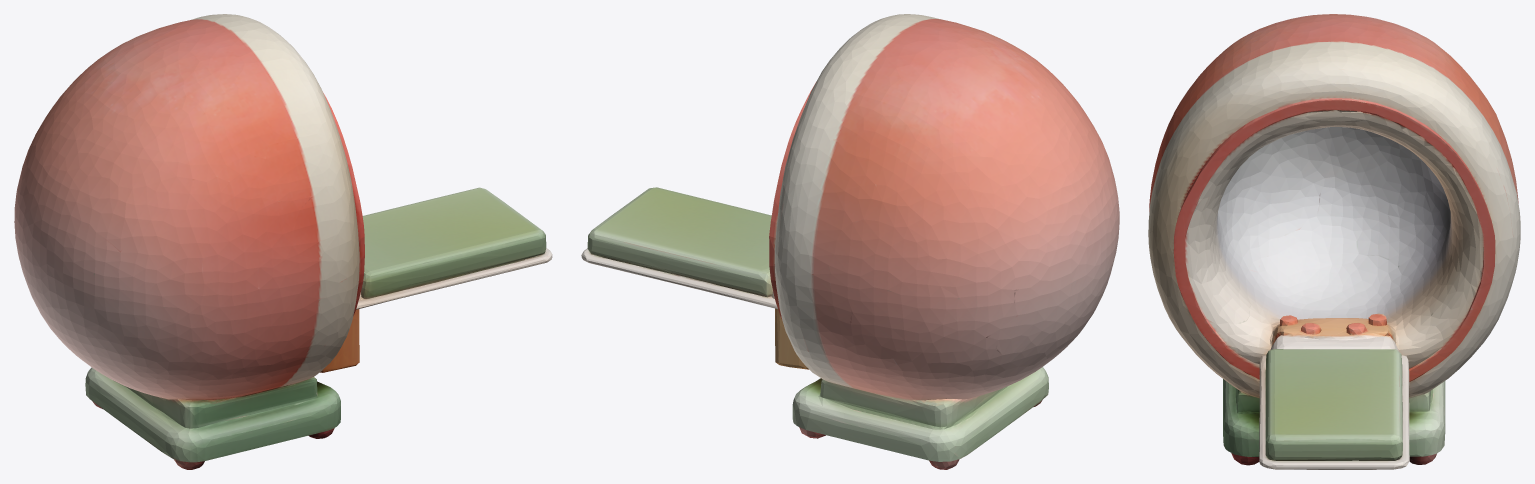
File: scanner.glb
The picture shows the model from 3 angles, left to right: view 1: azimuth 30°, elevation 25°; view 2: azimuth 150°, elevation 25°; view 3: azimuth 270°, elevation 25°; orthographic projection. The views are drawn at different scales.
Parts seen in each view (by area): view 1: geometry_0; view 2: geometry_0; view 3: geometry_0.
Boxes of the visible parts, x1=… form: geometry_0: x1=14, y1=14, x2=552, y2=469; geometry_0: x1=581, y1=14, x2=1119, y2=469; geometry_0: x1=1148, y1=14, x2=1520, y2=469.
Bounding box in the file's own units: 1 × 0.7648 × 0.6469.
1 material, 1 textured.
